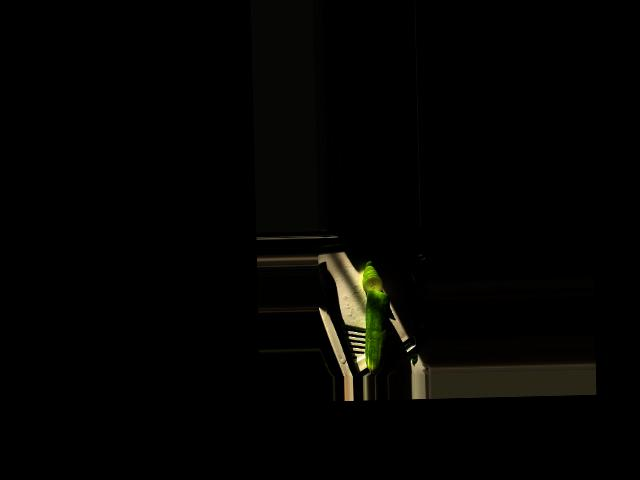cucumber: (363, 288, 390, 373)
